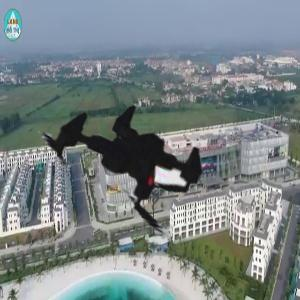drone: (2, 48, 244, 290)
